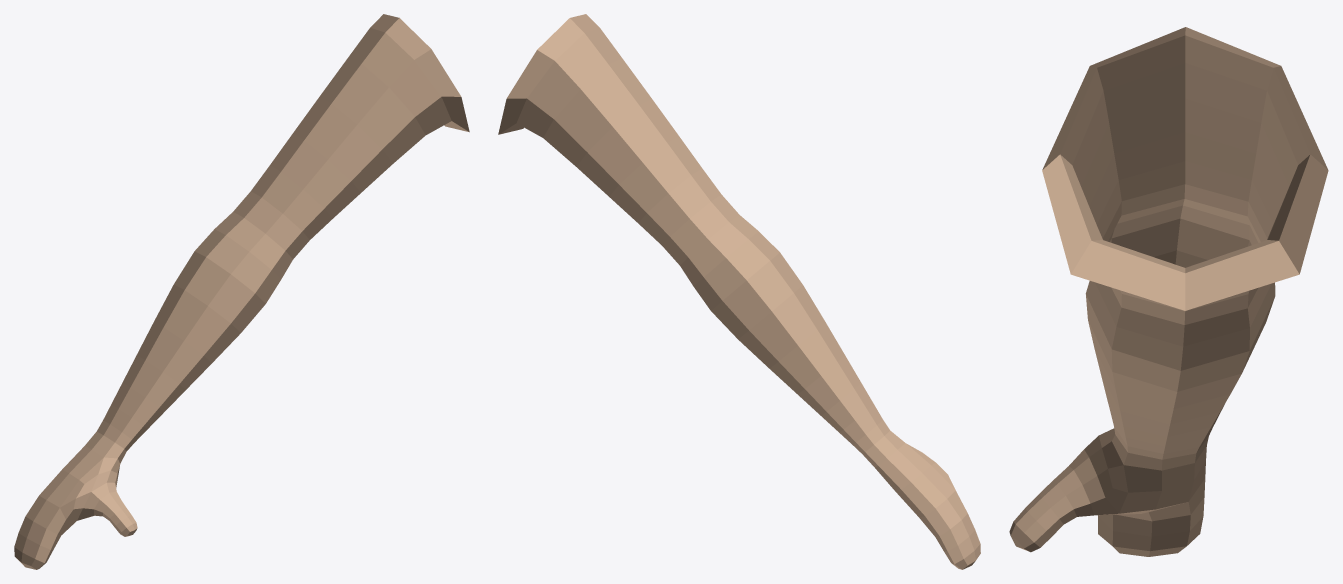
The model's file is RightArm.fbx.
3 renders of one model, left to right at view 1: azimuth 30°, elevation 25°; view 2: azimuth 150°, elevation 25°; view 3: azimuth 270°, elevation 25°, orthographic. The views are drawn at different scales.
Visible parts, largest first — view 1: Vert.006; view 2: Vert.006; view 3: Vert.006.
Part boxes in pixels (<box>): Vert.006: <box>14,14,469,569</box>; Vert.006: <box>498,14,980,569</box>; Vert.006: <box>1009,27,1328,556</box>.
Size of the model in its own units: 210 by 208 by 66.86.
